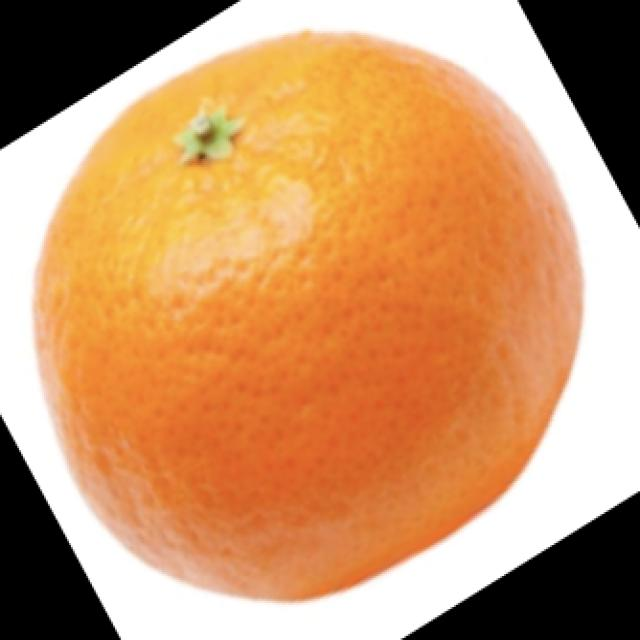matang: (30, 30, 583, 597)
